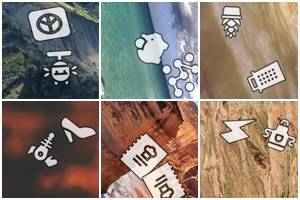thing: (24, 5, 73, 44), (245, 54, 289, 96), (37, 48, 80, 90), (162, 54, 200, 100), (115, 132, 158, 170), (27, 128, 63, 173), (133, 29, 169, 66), (263, 117, 297, 155), (59, 113, 98, 145), (217, 117, 255, 148), (219, 3, 247, 44), (148, 170, 185, 200)
